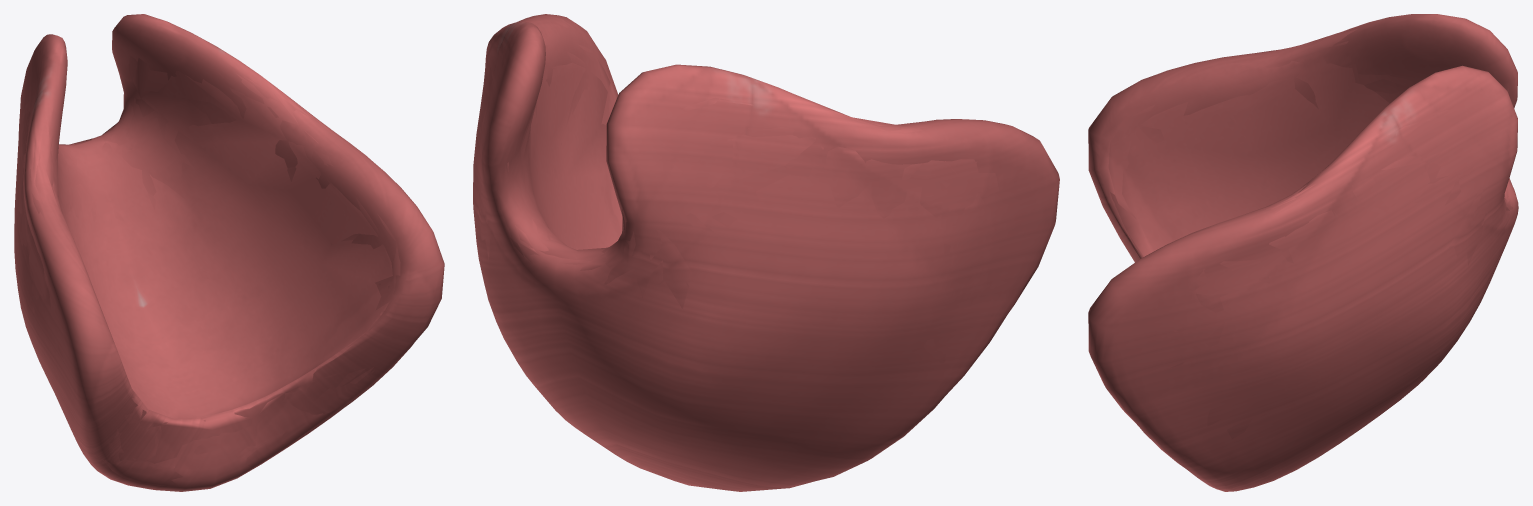
The model's file is Наружная косая мышца живота.fbx.
3 renders of one model, left to right at view 1: azimuth 30°, elevation 25°; view 2: azimuth 150°, elevation 25°; view 3: azimuth 270°, elevation 25°, orthographic. The views are drawn at different scales.
Parts seen in each view (by area): view 1: Наружная косая мышца живота low, Наружная косая мышца живота high, Наружная косая мышца живота; view 2: Наружная косая мышца живота high, Наружная косая мышца живота, Наружная косая мышца живота low; view 3: Наружная косая мышца живота high, Наружная косая мышца живота low, Наружная косая мышца живота.
Boxes of the visible parts, x1=… form: Наружная косая мышца живота low: x1=21, y1=58, x2=392, y2=477; Наружная косая мышца живота high: x1=14, y1=14, x2=444, y2=491; Наружная косая мышца живота: x1=17, y1=55, x2=400, y2=486; Наружная косая мышца живота high: x1=473, y1=14, x2=1059, y2=491; Наружная косая мышца живота: x1=478, y1=30, x2=1021, y2=364; Наружная косая мышца живота low: x1=482, y1=62, x2=956, y2=287; Наружная косая мышца живота high: x1=1088, y1=14, x2=1518, y2=491; Наружная косая мышца живота low: x1=1110, y1=29, x2=1509, y2=331; Наружная косая мышца живота: x1=1108, y1=27, x2=1513, y2=438.
Size of the model in its own units: 0.4749 by 0.4736 by 0.4295.
1 material, 1 textured.
